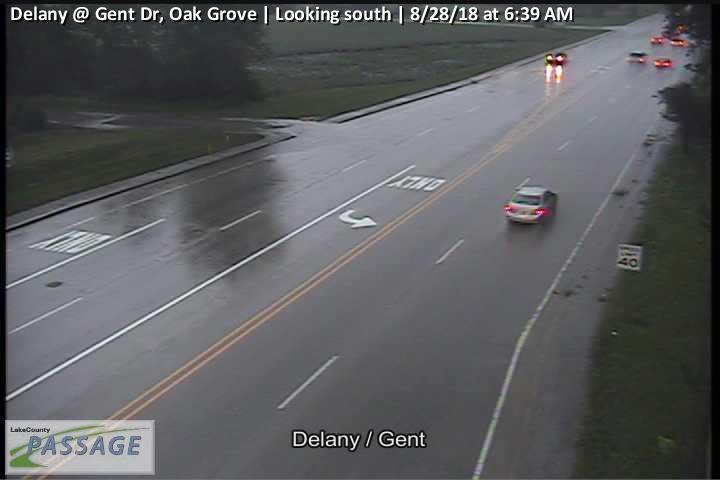Sedan: (504, 183, 561, 224), (626, 51, 648, 63)
